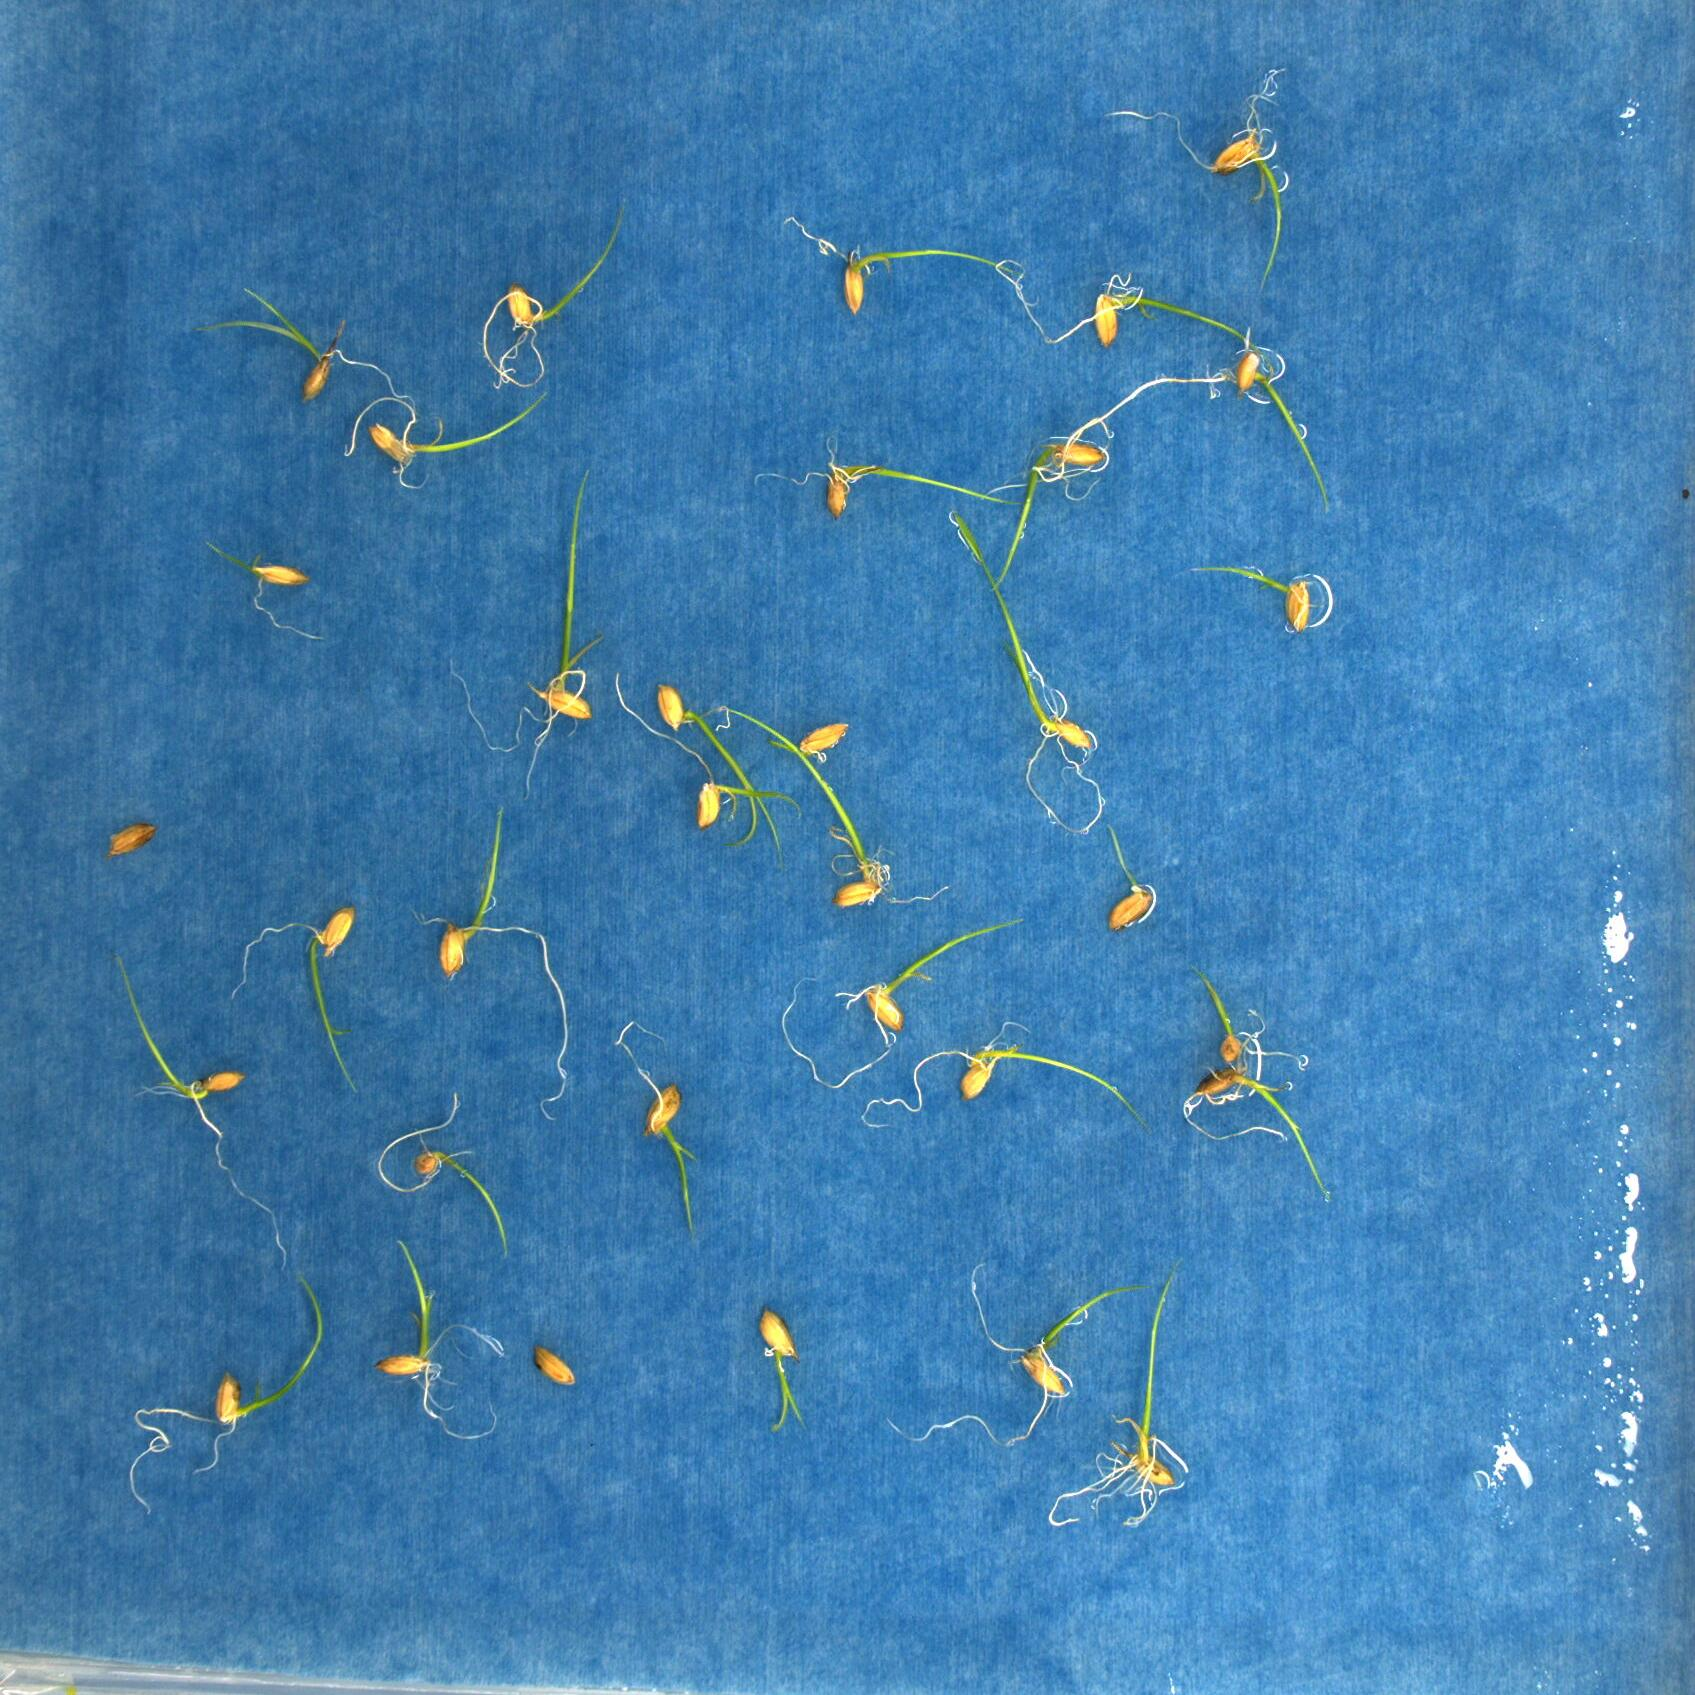not sprout: (1105, 823, 1153, 930), (529, 1343, 577, 1389), (106, 821, 154, 860)
sprout: (106, 948, 289, 1270), (400, 806, 574, 1122), (447, 461, 607, 790), (127, 1260, 329, 1518), (947, 512, 1107, 837), (883, 1260, 1149, 1454), (989, 373, 1223, 584), (778, 914, 1029, 1093), (1108, 61, 1291, 292), (1043, 1270, 1191, 1534), (854, 1017, 1152, 1132), (767, 734, 947, 914), (615, 671, 802, 832), (366, 1236, 503, 1454), (483, 199, 632, 393), (231, 903, 369, 1101), (775, 210, 1023, 317), (200, 282, 414, 400), (369, 1093, 512, 1260), (1000, 261, 1260, 352), (751, 435, 1018, 522), (343, 383, 557, 490), (1180, 1063, 1336, 1208), (605, 1012, 702, 1243), (657, 680, 782, 844), (1218, 341, 1336, 515), (205, 540, 321, 646), (1192, 969, 1307, 1065), (1183, 557, 1318, 633), (723, 705, 854, 761), (756, 1305, 809, 1436)
